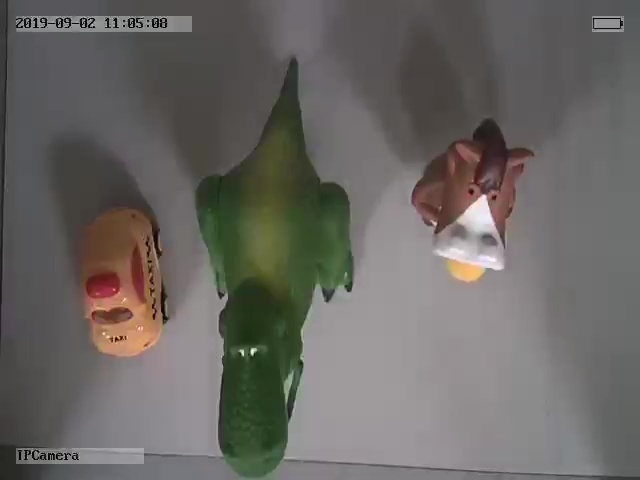car: (73, 204, 169, 358)
horse: (412, 116, 533, 285)
rex: (197, 82, 358, 477)
